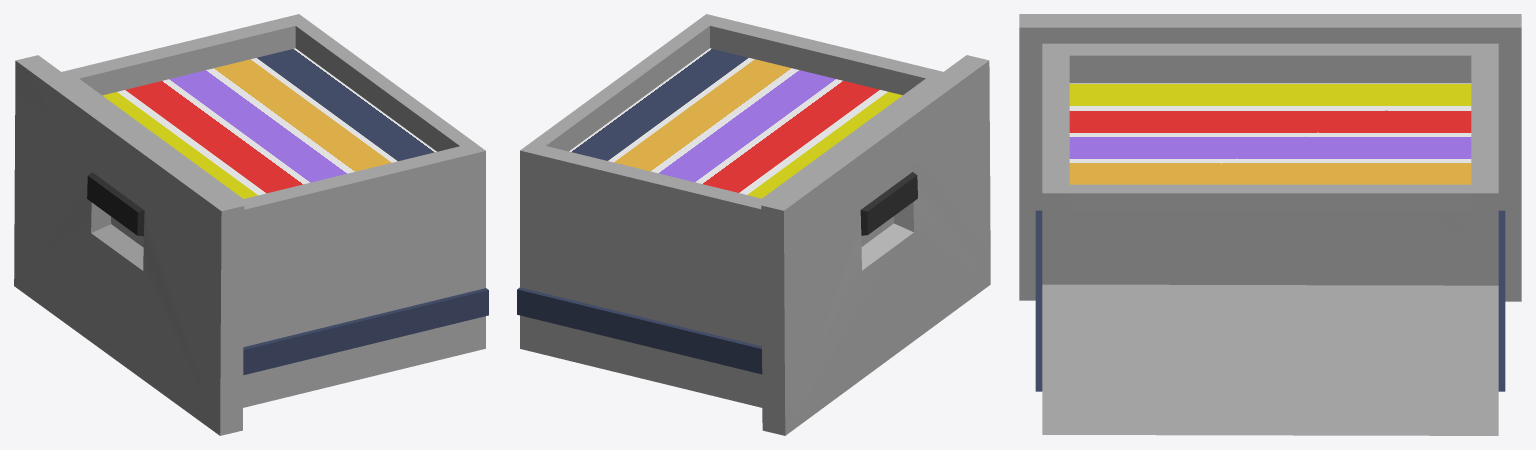
File: Filing_Cabinet_Drawer.fbx
3 views of the same model, side by side, from view 1: azimuth 30°, elevation 25°; view 2: azimuth 150°, elevation 25°; view 3: azimuth 270°, elevation 25° (orthographic). The views are drawn at different scales.
Visible parts, largest first — view 1: polySurface3; view 2: polySurface3; view 3: polySurface3.
Part boxes in pixels (box(x1,y1,x2,y2)): polySurface3: box(14, 14, 488, 435); polySurface3: box(517, 14, 990, 435); polySurface3: box(1019, 14, 1521, 435).
Size of the model in its own units: 65.97 by 50.67 by 83.93.
